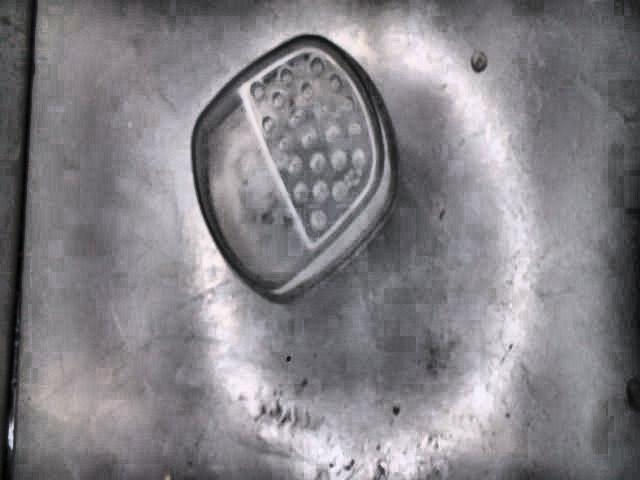Plastic: (191, 33, 397, 303)
